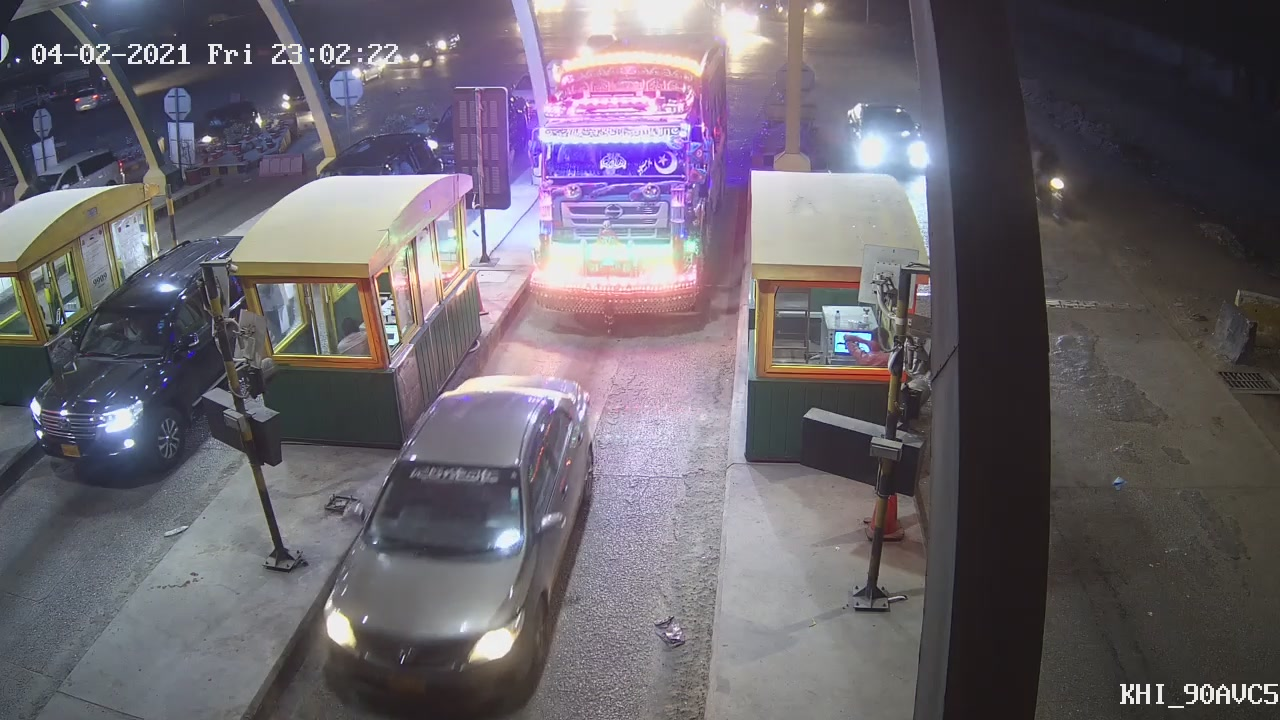F1: (320, 374, 599, 710)
F5: (517, 25, 725, 326)
